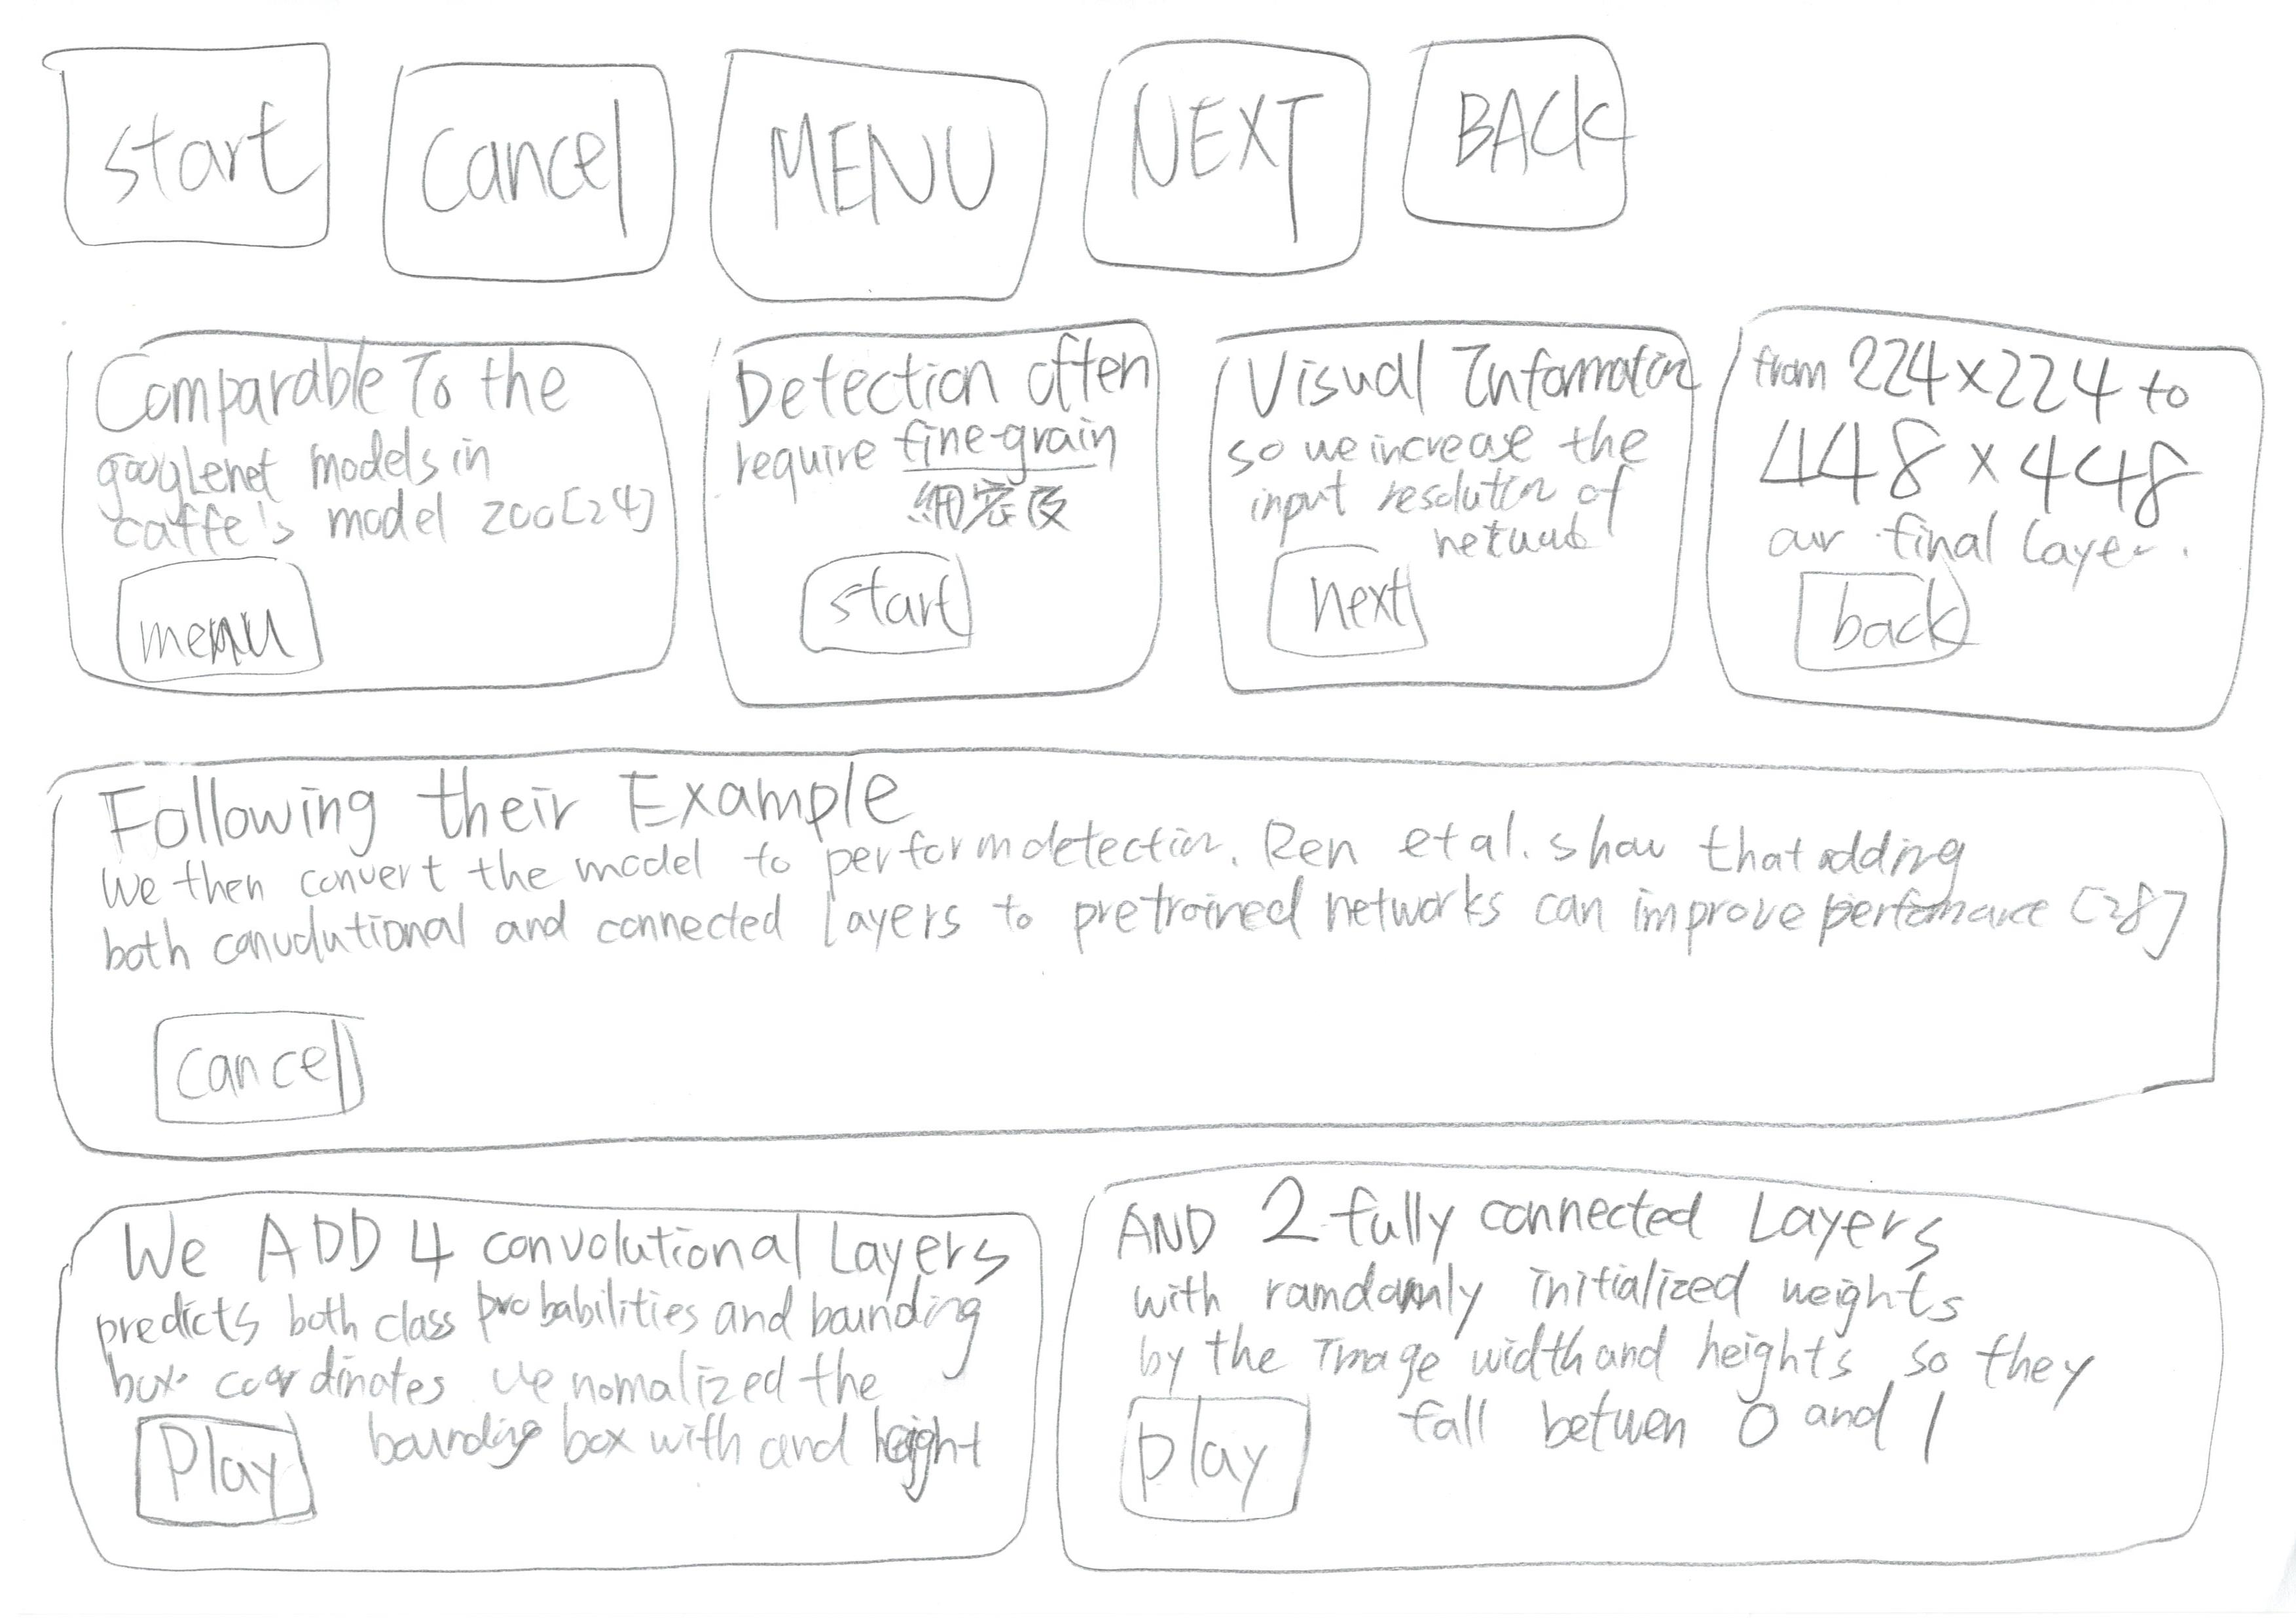back: (1377, 16, 1682, 278), (1784, 557, 2008, 691)
cancel: (359, 33, 694, 313), (120, 988, 415, 1144)
double: (1050, 1151, 2296, 1619), (18, 1165, 1060, 1599)
menu: (701, 18, 1065, 323), (93, 545, 346, 698)
next: (1062, 9, 1401, 302), (1245, 538, 1450, 664)
play: (102, 1396, 339, 1555), (1101, 1380, 1338, 1540)
quadruple: (1688, 278, 2296, 752), (49, 285, 694, 729), (668, 294, 1204, 733), (1176, 288, 1712, 728)
row: (19, 276, 2296, 736), (18, 1167, 2296, 1608), (18, 728, 2296, 1167), (26, 7, 2296, 272)
single: (0, 736, 2296, 1179)
small-title: (1755, 315, 2212, 518), (1115, 1181, 1946, 1267), (123, 1206, 1034, 1281), (100, 766, 923, 838), (109, 344, 599, 431), (1252, 337, 1681, 418), (738, 352, 1134, 410)
start: (42, 12, 359, 290), (763, 538, 1009, 671)
text: (76, 835, 2178, 975), (91, 1288, 1006, 1418), (1377, 1329, 2064, 1494), (1132, 1260, 2090, 1373), (88, 445, 679, 540), (362, 1417, 988, 1501), (1234, 424, 1675, 540), (723, 415, 1116, 534), (1751, 506, 2199, 576)
